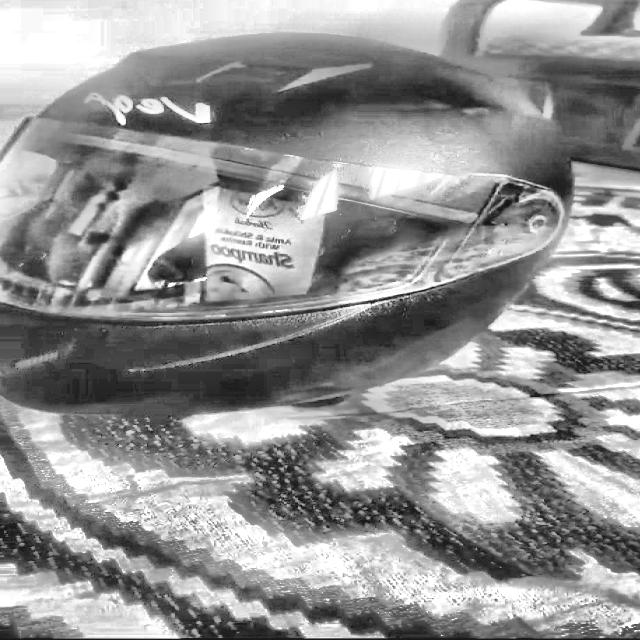Helmet: (0, 29, 569, 417)
